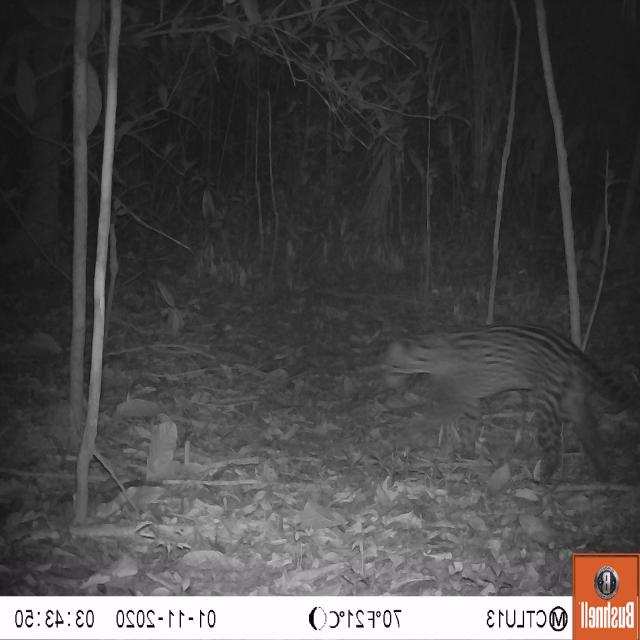Ocelote: (365, 298, 640, 488)
